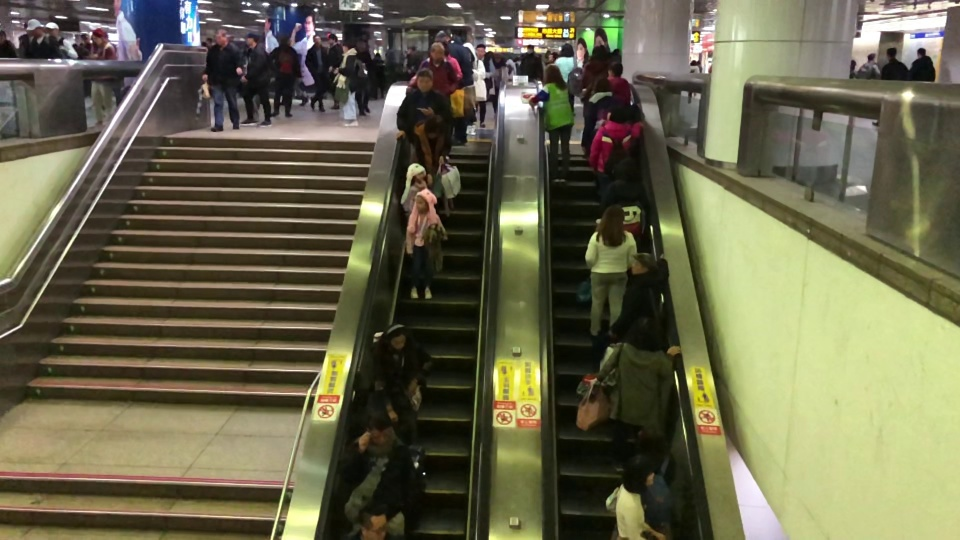person_head: (625, 315, 666, 353), (621, 452, 654, 493), (356, 500, 389, 540), (366, 409, 393, 449), (599, 203, 626, 232), (384, 321, 408, 351), (614, 156, 640, 183), (629, 251, 657, 276), (413, 189, 434, 214), (415, 68, 434, 94), (405, 162, 426, 183), (542, 64, 562, 85), (422, 118, 440, 140), (607, 107, 629, 125), (26, 18, 45, 36), (594, 77, 612, 94), (461, 41, 477, 60), (590, 44, 609, 60), (606, 60, 623, 77), (557, 43, 574, 59), (430, 42, 445, 60), (434, 29, 452, 43), (214, 29, 228, 46), (45, 22, 59, 38), (91, 29, 104, 46), (341, 39, 356, 53), (245, 32, 258, 48), (278, 33, 292, 47), (885, 46, 898, 60), (475, 43, 486, 59), (355, 40, 367, 52), (440, 42, 449, 58), (80, 31, 91, 44), (311, 33, 322, 46), (915, 47, 926, 59), (327, 33, 337, 45), (492, 53, 502, 63), (866, 52, 876, 62), (525, 44, 534, 55), (0, 30, 7, 44), (406, 45, 415, 55), (611, 47, 619, 56), (205, 37, 212, 47), (850, 59, 857, 69), (374, 52, 381, 60), (689, 59, 697, 66), (696, 60, 701, 65)
person_vbox: (594, 315, 681, 473), (334, 409, 427, 540), (366, 321, 434, 446), (584, 203, 638, 342), (519, 64, 575, 186), (606, 251, 669, 341), (588, 107, 644, 200), (434, 29, 475, 145), (600, 156, 650, 250), (394, 68, 454, 143), (615, 452, 666, 540), (200, 29, 243, 133), (405, 189, 441, 301), (580, 77, 623, 159), (238, 32, 272, 127), (83, 29, 115, 126), (871, 46, 909, 127), (405, 42, 457, 99), (328, 39, 360, 127), (268, 33, 301, 117), (412, 118, 452, 186), (579, 44, 609, 118), (303, 33, 329, 112), (22, 18, 62, 60), (554, 43, 576, 114), (399, 162, 429, 214), (461, 41, 486, 103), (475, 43, 493, 127), (355, 40, 372, 117), (488, 52, 509, 113), (45, 22, 78, 60), (327, 33, 343, 111), (606, 60, 631, 105), (908, 46, 936, 82), (519, 43, 544, 80), (440, 42, 463, 81), (79, 31, 91, 101), (372, 52, 386, 101), (402, 44, 421, 80), (687, 59, 700, 103), (0, 30, 18, 58), (863, 52, 880, 79), (850, 59, 857, 79), (696, 60, 702, 73)
